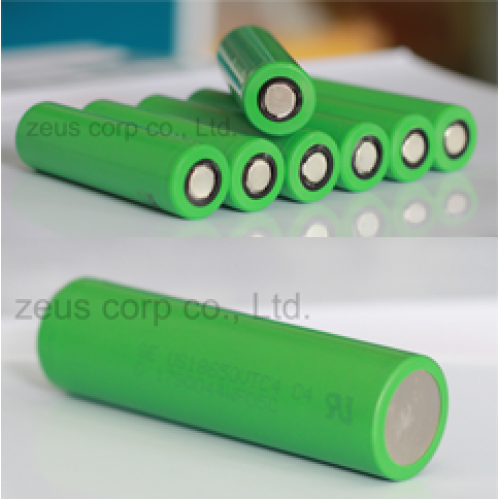Battery: (34, 271, 451, 484), (13, 100, 231, 221), (213, 22, 319, 136)
